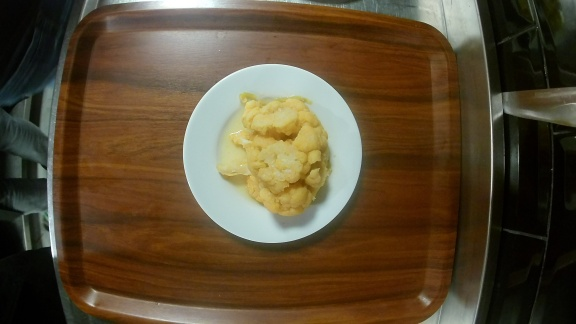karnibahar: (181, 62, 365, 245)
